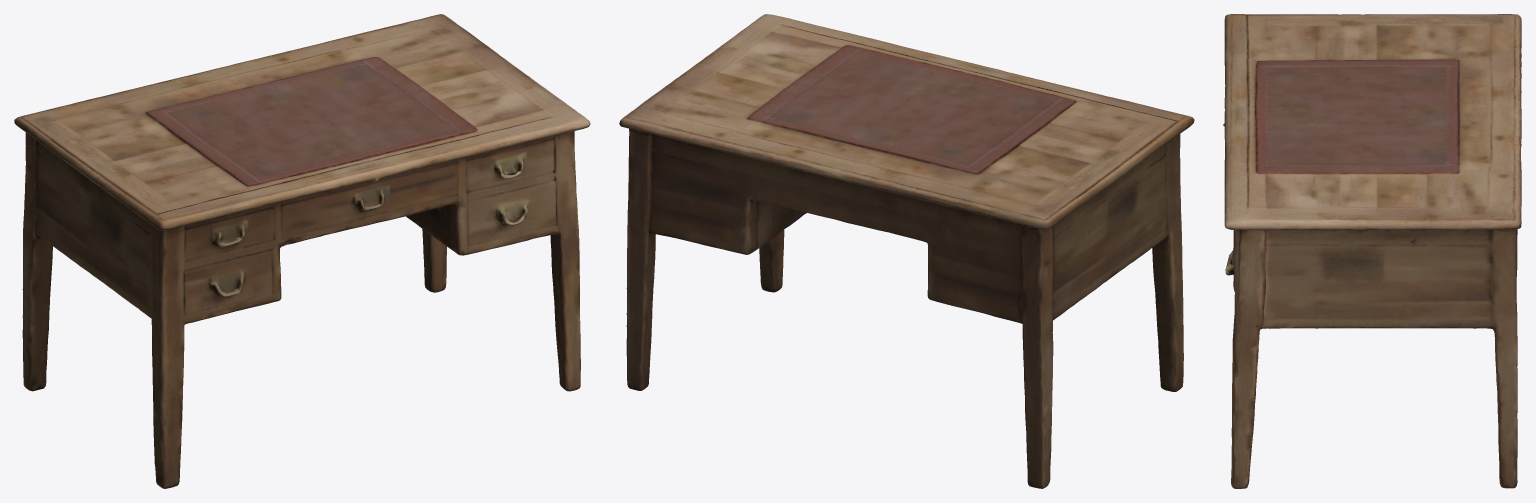
3 renders of one model, left to right at view 1: azimuth 30°, elevation 25°; view 2: azimuth 150°, elevation 25°; view 3: azimuth 270°, elevation 25°, orthographic.
Visible parts, largest first — view 1: Mesh_0; view 2: Mesh_0; view 3: Mesh_0.
Boxes of the visible parts, left/top/right/bottom form: Mesh_0: left=14, top=14, right=590, bottom=488; Mesh_0: left=619, top=14, right=1194, bottom=488; Mesh_0: left=1223, top=14, right=1521, bottom=488.
Size of the model in its own units: 1.25 by 0.76 by 0.75.
1 material, 1 textured.
